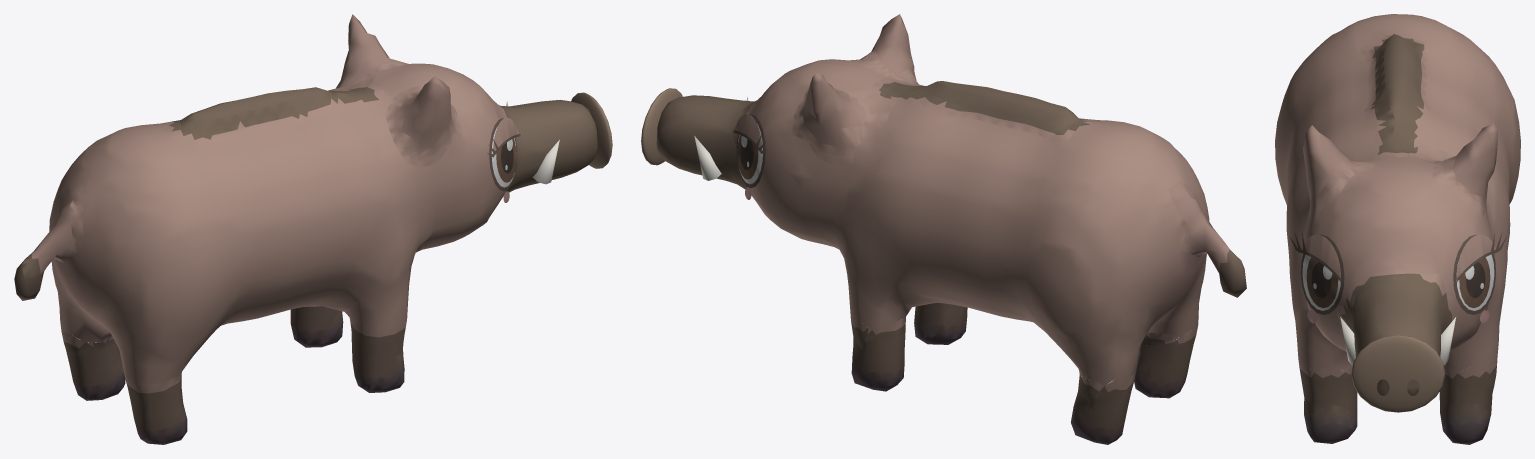
File: boar.glb
3 renders of one model, left to right at view 1: azimuth 30°, elevation 25°; view 2: azimuth 150°, elevation 25°; view 3: azimuth 270°, elevation 25°, orthographic. The views are drawn at different scales.
Visible parts, largest first — view 1: boar; view 2: boar; view 3: boar.
Part boxes in pixels (left/top/right/bottom): boar: left=14, top=14, right=612, bottom=444; boar: left=641, top=14, right=1246, bottom=444; boar: left=1275, top=14, right=1520, bottom=444.
Bounding box in the file's own units: 0.8747 × 0.4433 × 0.2894.
